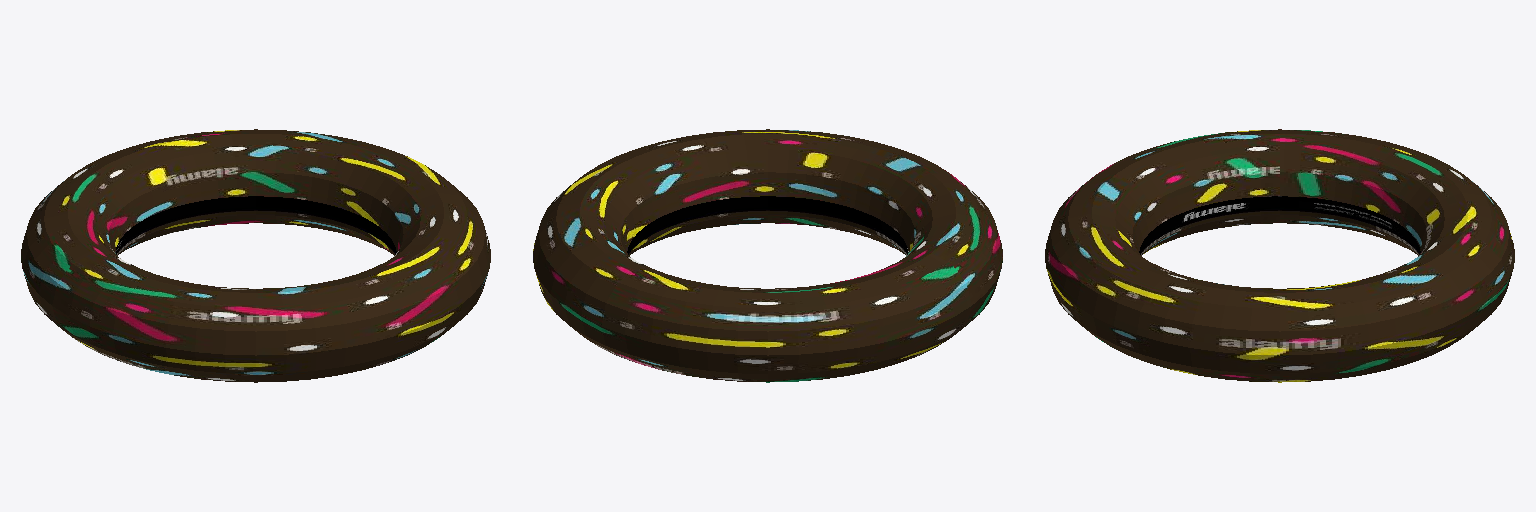
3 views of the same model, side by side, from view 1: azimuth 30°, elevation 25°; view 2: azimuth 150°, elevation 25°; view 3: azimuth 270°, elevation 25° (orthographic).
Parts seen in each view (by area): view 1: Torus; view 2: Torus; view 3: Torus.
Boxes of the visible parts, x1,y1,x2,y2 form: Torus: [21, 129, 490, 382]; Torus: [533, 129, 1002, 382]; Torus: [1045, 129, 1514, 382].
Bounding box in the file's own units: 2.5 × 0.5 × 2.5.
1 materials, 1 textured.